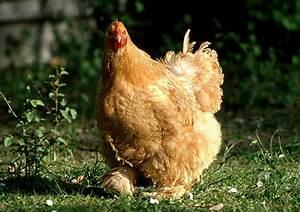hen: (93, 17, 224, 203)
